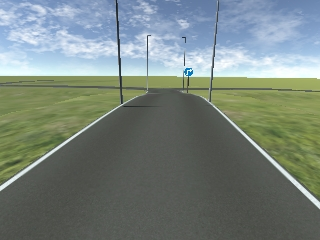right: (183, 69, 192, 77)
